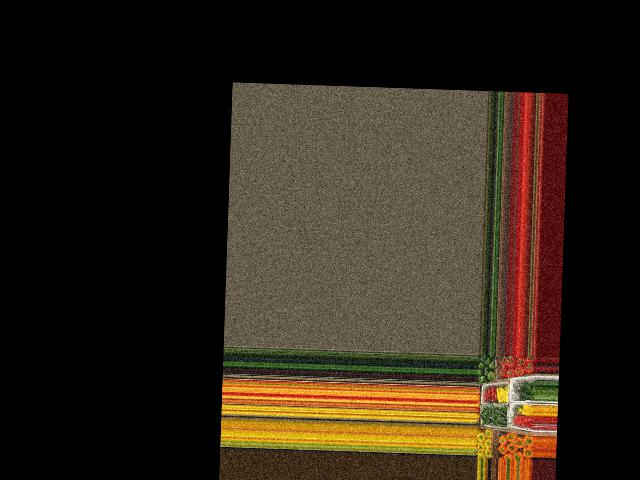bell_pepper: (485, 360, 496, 370)
